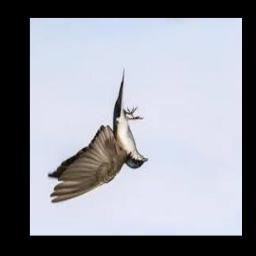Swallow: (47, 68, 147, 203)
